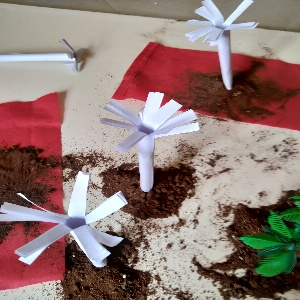plant: (238, 188, 300, 273)
weed: (7, 171, 131, 276), (101, 83, 190, 197), (182, 3, 267, 95), (2, 37, 102, 84)
